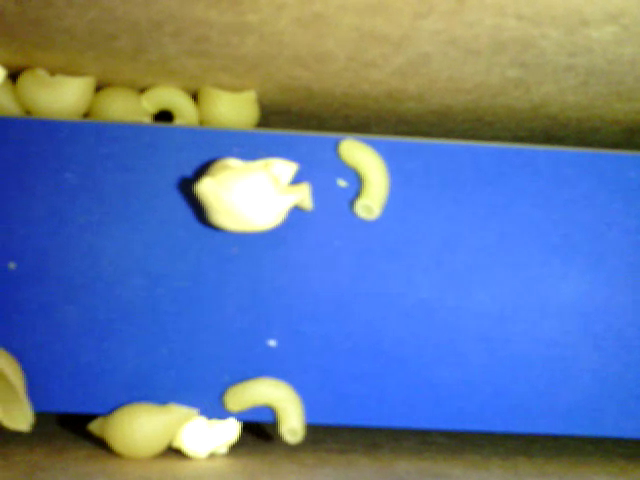elbow: (222, 378, 305, 443), (336, 137, 393, 221), (139, 83, 200, 125)
shell: (86, 399, 203, 459), (16, 65, 98, 119), (1, 346, 39, 431), (198, 79, 261, 127), (84, 84, 148, 122)
tortellini: (190, 153, 315, 233)
